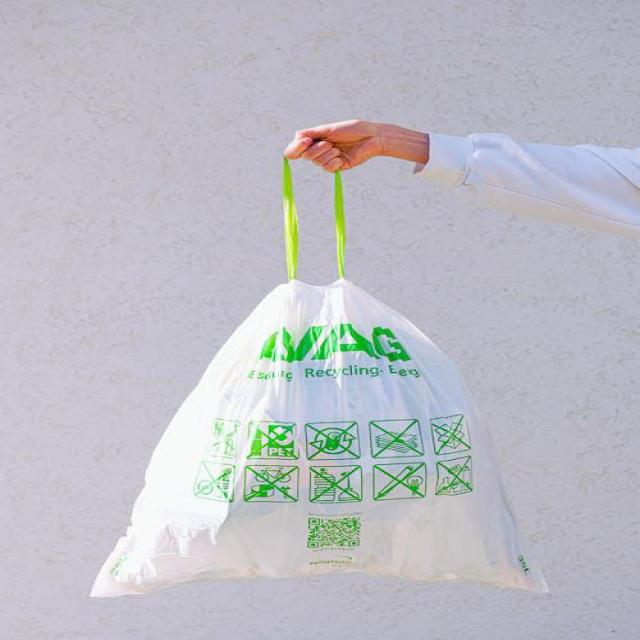plastic: (106, 266, 564, 604)
